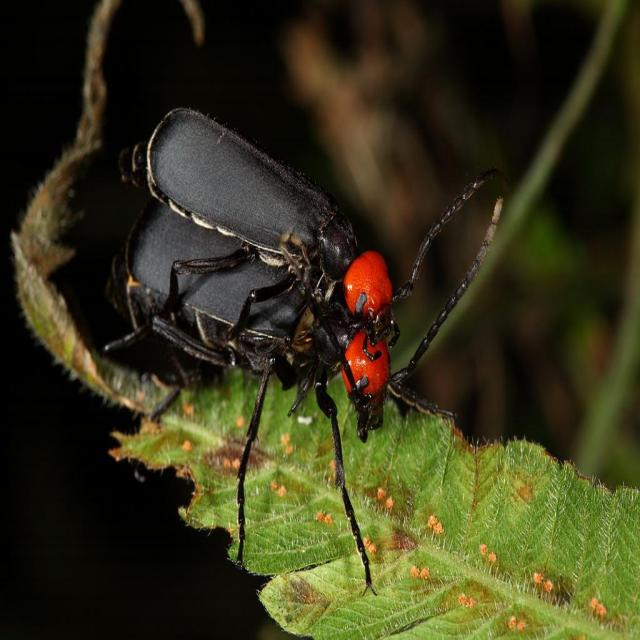BlisterBeetle-Adult-: (133, 86, 438, 324)
